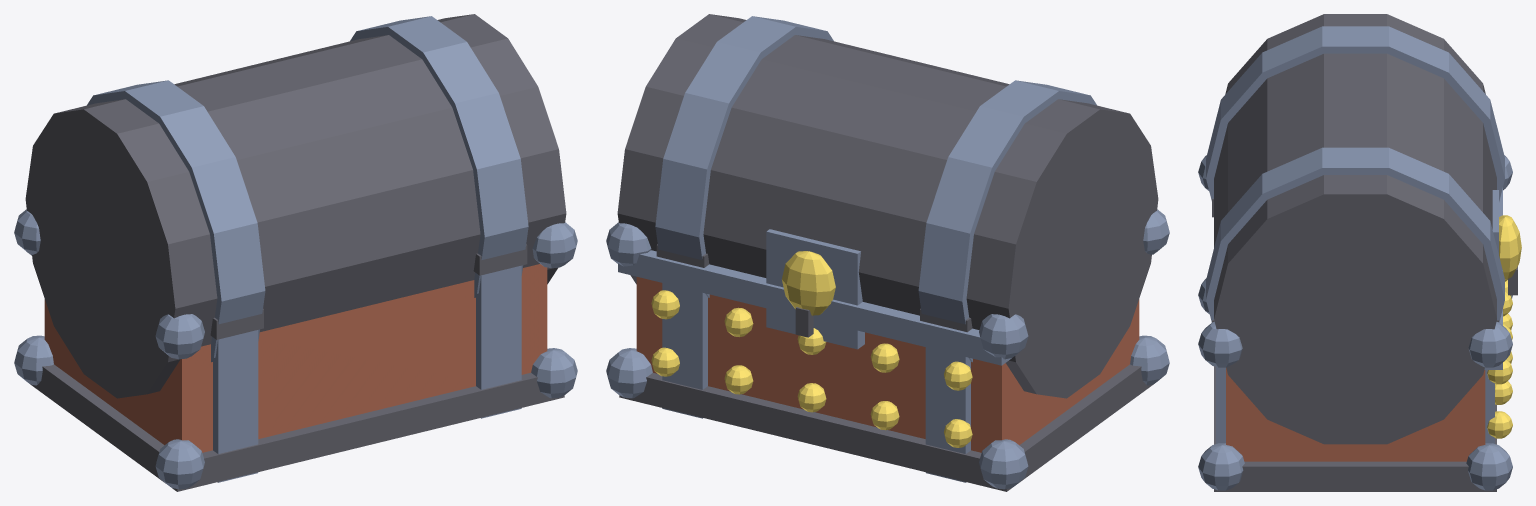
Rendered from GIANT.glb.
The picture shows the model from 3 angles, left to right: view 1: azimuth 30°, elevation 25°; view 2: azimuth 150°, elevation 25°; view 3: azimuth 270°, elevation 25°; orthographic projection. The views are drawn at different scales.
Parts seen in each view (by area): view 1: Lid, Body; view 2: Lid, Body; view 3: Lid, Body.
Part boxes in pixels (left/top/right/bottom): Lid: left=25, top=14, right=566, bottom=398; Body: left=14, top=209, right=577, bottom=491; Lid: left=617, top=14, right=1158, bottom=398; Body: left=606, top=209, right=1169, bottom=491; Lid: left=1206, top=14, right=1521, bottom=444; Body: left=1198, top=155, right=1512, bottom=491.
Bounding box in the file's own units: 3.06 × 2.3 × 2.19.
